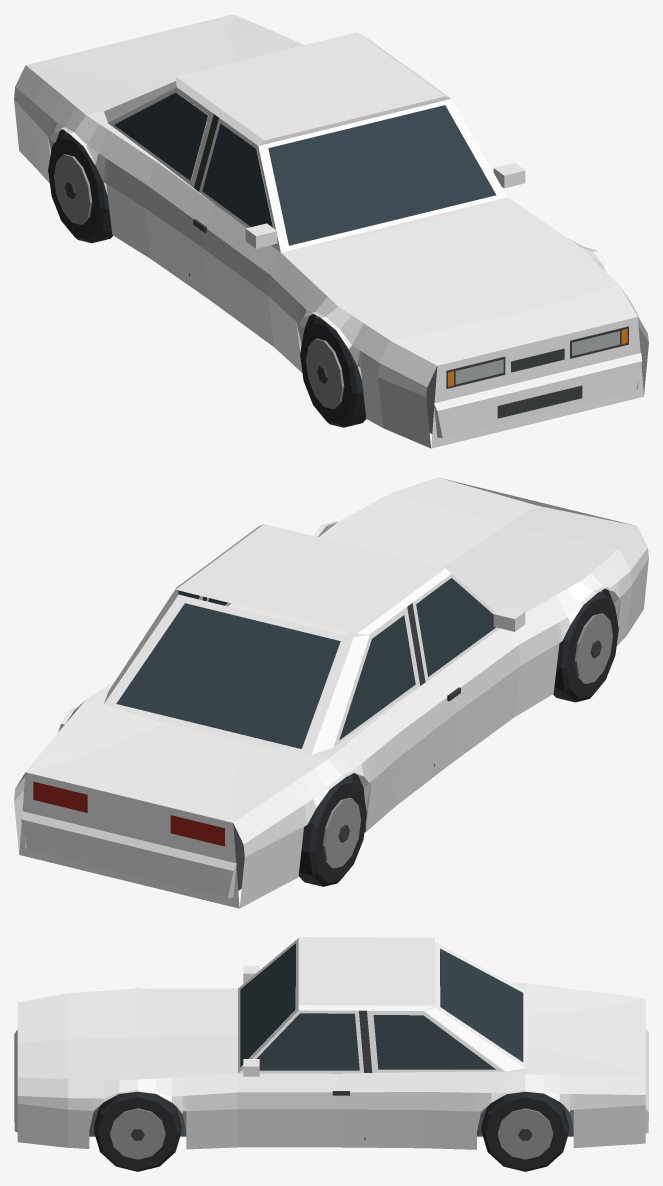
The model's file is bancroft_longhorn_97.glb.
The picture shows the model from 3 angles, top to bottom: view 1: azimuth 30°, elevation 25°; view 2: azimuth 150°, elevation 25°; view 3: azimuth 270°, elevation 25°; orthographic projection. The views are drawn at different scales.
Visible parts, largest first — view 1: bancroft_longhorn_97; view 2: bancroft_longhorn_97; view 3: bancroft_longhorn_97.
Boxes of the visible parts, bbox=[...] form: bancroft_longhorn_97: bbox=[14, 14, 648, 448]; bancroft_longhorn_97: bbox=[14, 477, 648, 908]; bancroft_longhorn_97: bbox=[14, 937, 648, 1171].
Bounding box in the file's own units: 1.82 × 1.24 × 4.7.
8 materials, 1 textured.
